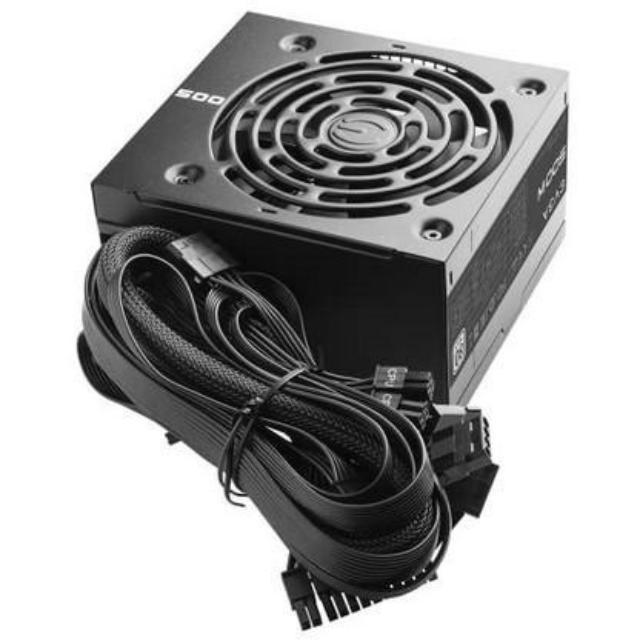PSU: (102, 9, 580, 408)
